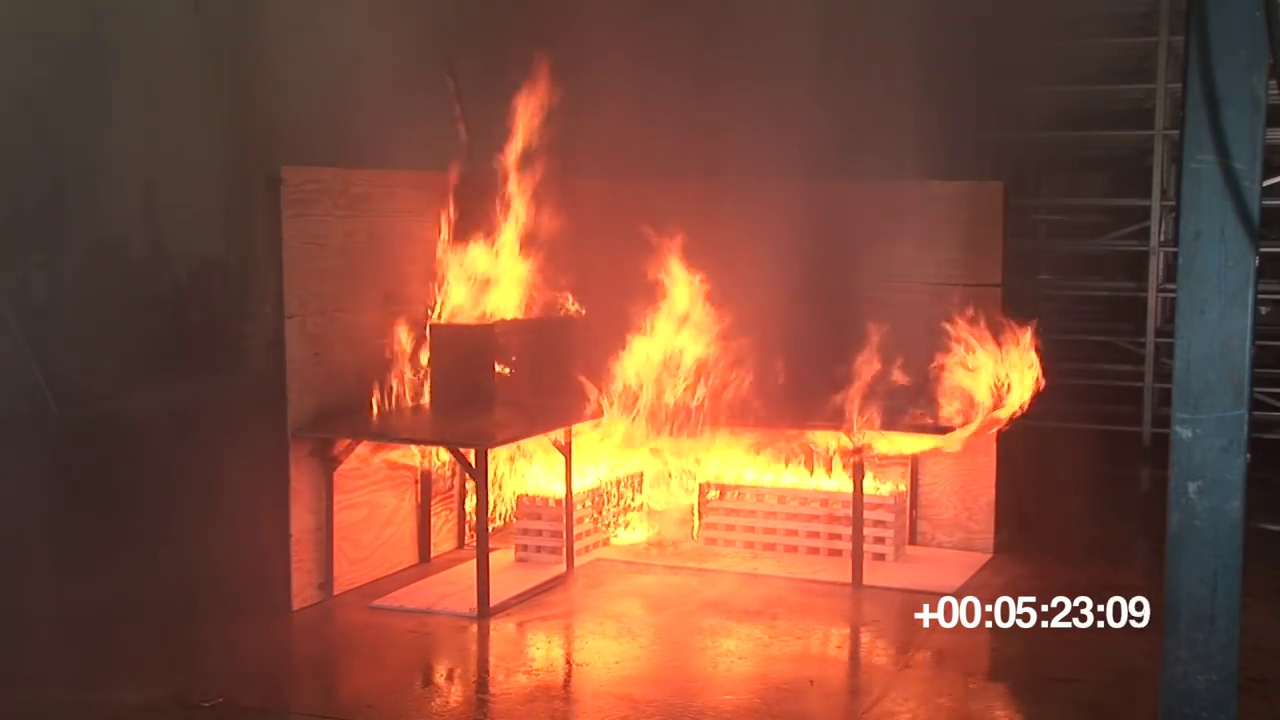fire: (430, 72, 546, 322), (594, 229, 728, 429), (499, 434, 902, 499), (928, 311, 1050, 424), (833, 341, 875, 443)
